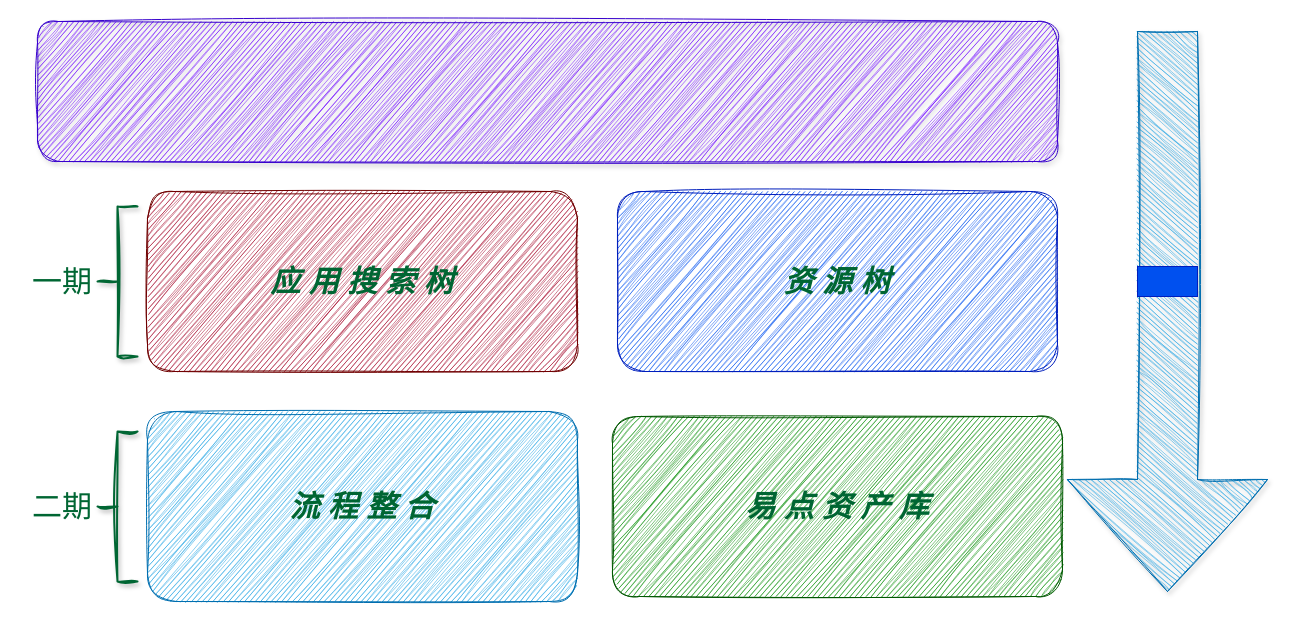
Some shapes in this 1291 by 619 pixel diagram are drawn without their labels. Each missing label, with the centre of its shape:
"治理" goes at point (1167, 281).
"统 一 C M D B" goes at point (548, 92).
